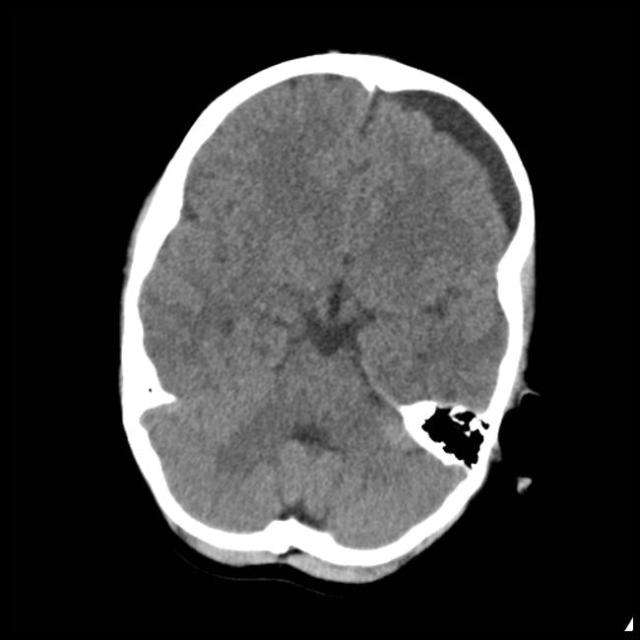lesion: (117, 52, 542, 582)
